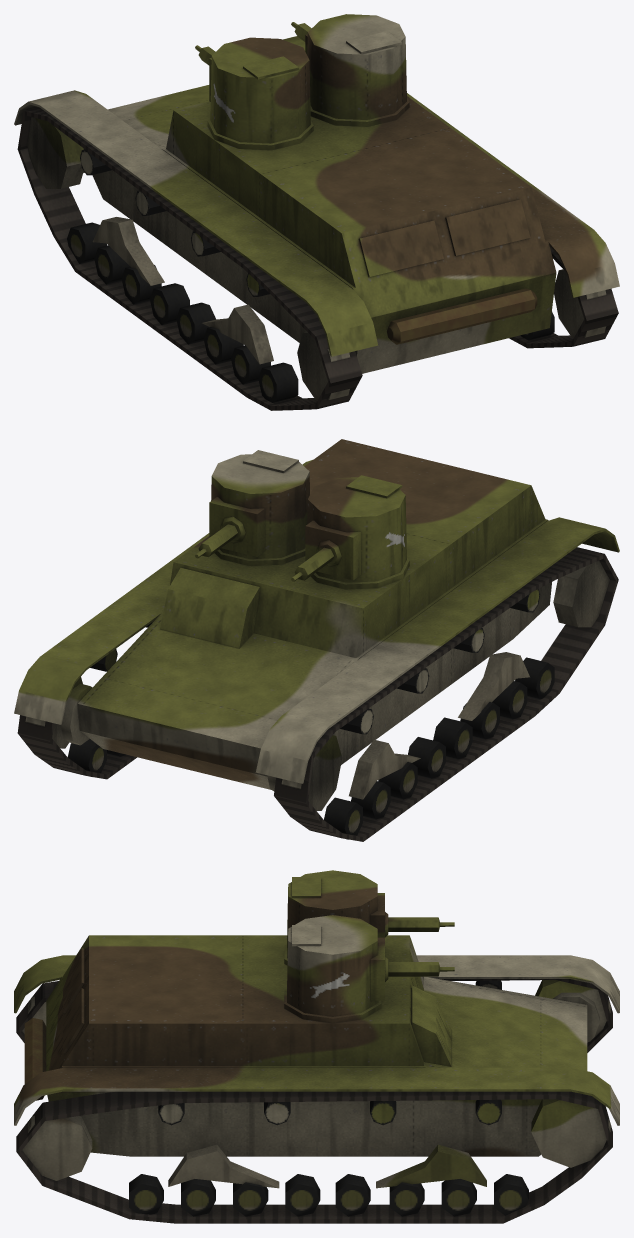
File: TP7_DW_MID.fbx
The picture shows the model from 3 angles, top to bottom: view 1: azimuth 30°, elevation 25°; view 2: azimuth 150°, elevation 25°; view 3: azimuth 270°, elevation 25°; orthographic projection. The views are drawn at different scales.
Parts seen in each view (by area): view 1: Chassis, Chenille_Gauche_01, Tourelle_01, Tourelle_02, Roue_G1, Chenille_Droite_01, Roue_G10, Roue_D10, Roue_G9, Roue_G5, Roue_G6, Roue_G2 (+4 smaller); view 2: Chassis, Chenille_Gauche_01, Tourelle_01, Tourelle_02, Roue_G10, Chenille_Droite_01, Roue_G1, Roue_G6, Roue_G5, Roue_G2, Roue_G9, Roue_D2 (+6 smaller); view 3: Chassis, Chenille_Droite_01, Tourelle_02, Tourelle_01, Roue_D1, Roue_D10, Chenille_Gauche_01, Roue_D5, Roue_D6, Roue_D9, Roue_D2, Roue_D3 (+6 smaller).
Boxes of the visible parts, x1,y1,x2,y2 form: Chassis: (14, 36, 619, 373); Chenille_Gauche_01: (17, 107, 362, 410); Tourelle_01: (207, 37, 313, 150); Tourelle_02: (305, 14, 409, 126); Roue_G1: (27, 117, 83, 188); Chenille_Droite_01: (509, 245, 618, 348); Roue_G10: (297, 332, 350, 400); Roue_D10: (554, 269, 606, 337); Roue_G9: (258, 362, 298, 402); Roue_G5: (150, 283, 189, 325); Roue_G6: (176, 302, 216, 344); Roue_G2: (67, 222, 106, 263); Chassis: (14, 439, 619, 799); Chenille_Gauche_01: (274, 547, 618, 841); Tourelle_01: (305, 475, 409, 589); Tourelle_02: (209, 450, 309, 565); Roue_G10: (553, 561, 609, 627); Chenille_Droite_01: (17, 715, 136, 779); Roue_G1: (281, 735, 342, 810); Roue_G6: (433, 717, 472, 759); Roue_G5: (408, 737, 445, 778); Roue_G2: (324, 797, 362, 839); Roue_G9: (515, 657, 554, 699); Roue_D2: (67, 739, 106, 773); Chassis: (14, 935, 619, 1188); Chenille_Droite_01: (16, 1091, 612, 1223); Tourelle_02: (284, 915, 384, 1023); Tourelle_01: (284, 870, 384, 965); Roue_D1: (531, 1099, 610, 1167); Roue_D10: (22, 1115, 92, 1180); Chenille_Gauche_01: (16, 979, 612, 1052); Roue_D5: (335, 1174, 370, 1216); Roue_D6: (285, 1174, 320, 1216); Roue_D9: (129, 1174, 163, 1214); Roue_D2: (494, 1174, 528, 1215); Roue_D3: (441, 1179, 476, 1216).
Size of the model in its own units: 240 by 458 by 205.
Materials: 1 (1 with a texture image).
